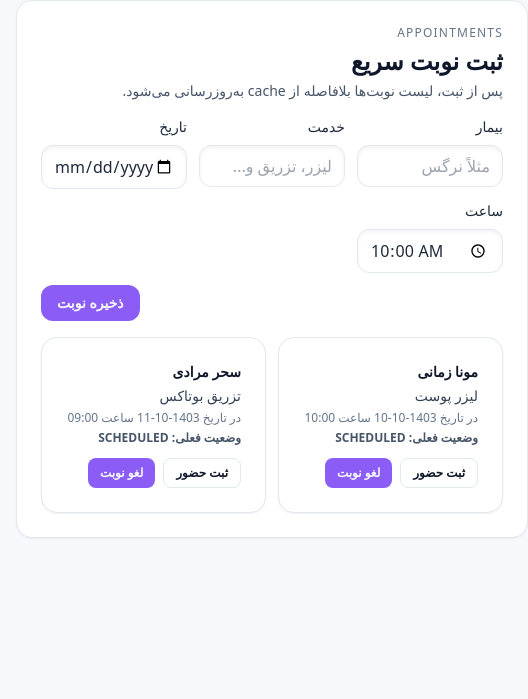
Test: AppointmentScheduler › creates appointment and reflects it in cache
The image size is (528, 699).
Expected: the text "مونا زمانی" is shown, [417,362,478,381]
Type "نگار میرزایی" into the field with placeholder "مثلاً نرگس" at (430, 166), box [357,145,503,187]
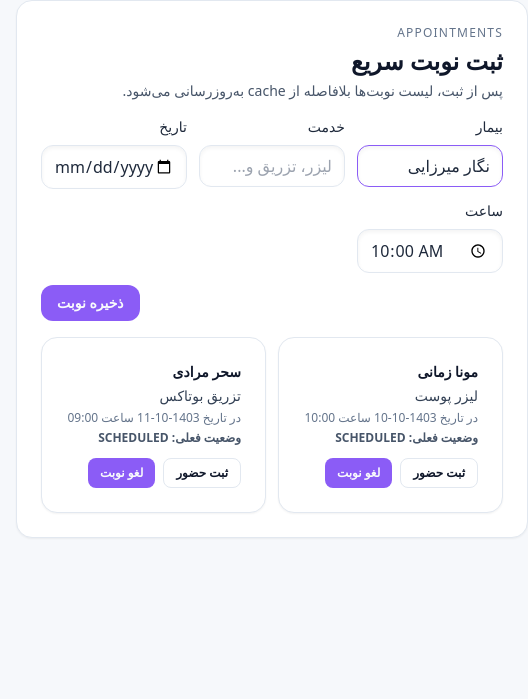
Type "پاکسازی پوست" into the field with placeholder "لیزر، تزریق و..." at (272, 166), box [199,145,345,187]
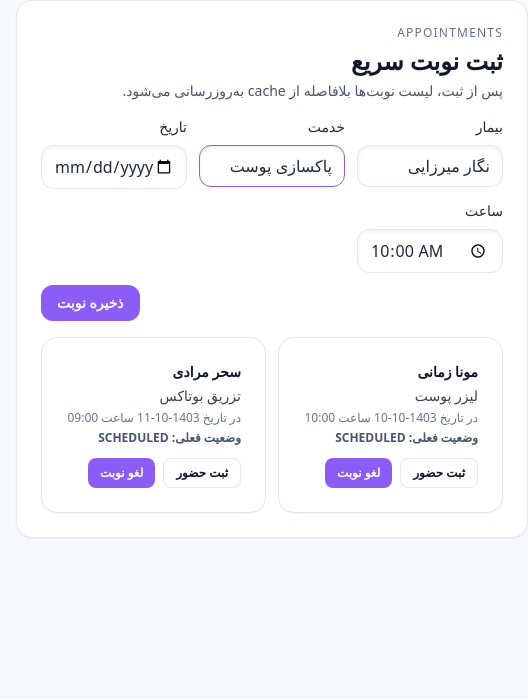
Type "1403-11-01" into the date field labelled "تاریخ" at (114, 167), box [41,145,187,189]
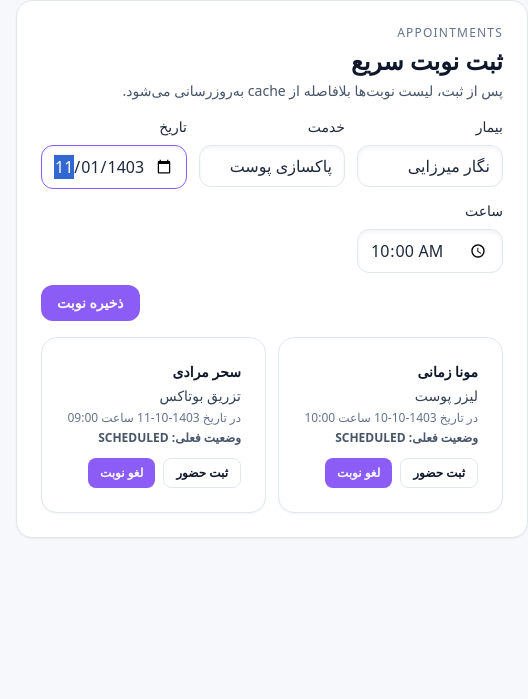
Type "11:00" into the time field labelled "ساعت" at (430, 251), box [357,229,503,273]
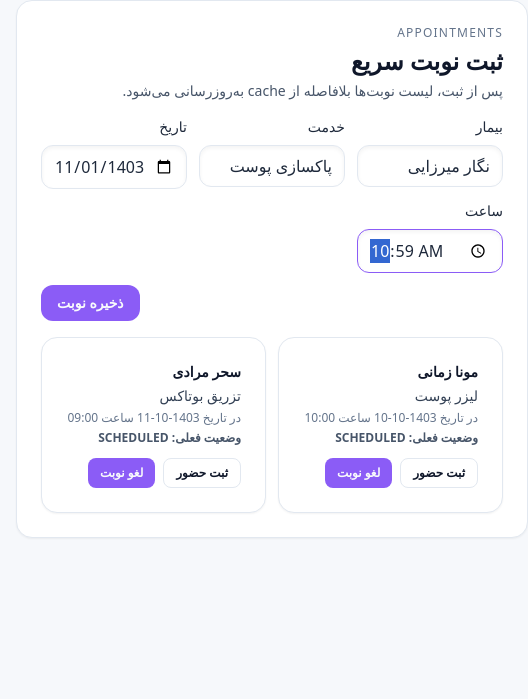
Click the button "ذخیره نوبت" at (90, 303), box [41,285,140,321]
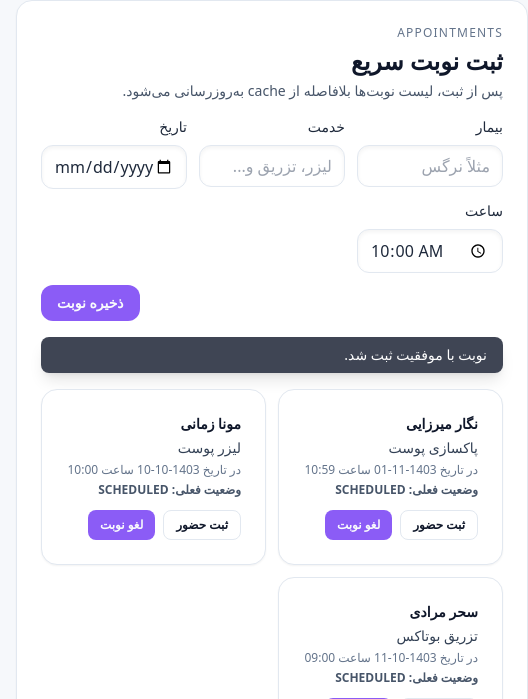
Expected: the text "نگار میرزایی" is shown, [406,414,478,433]
